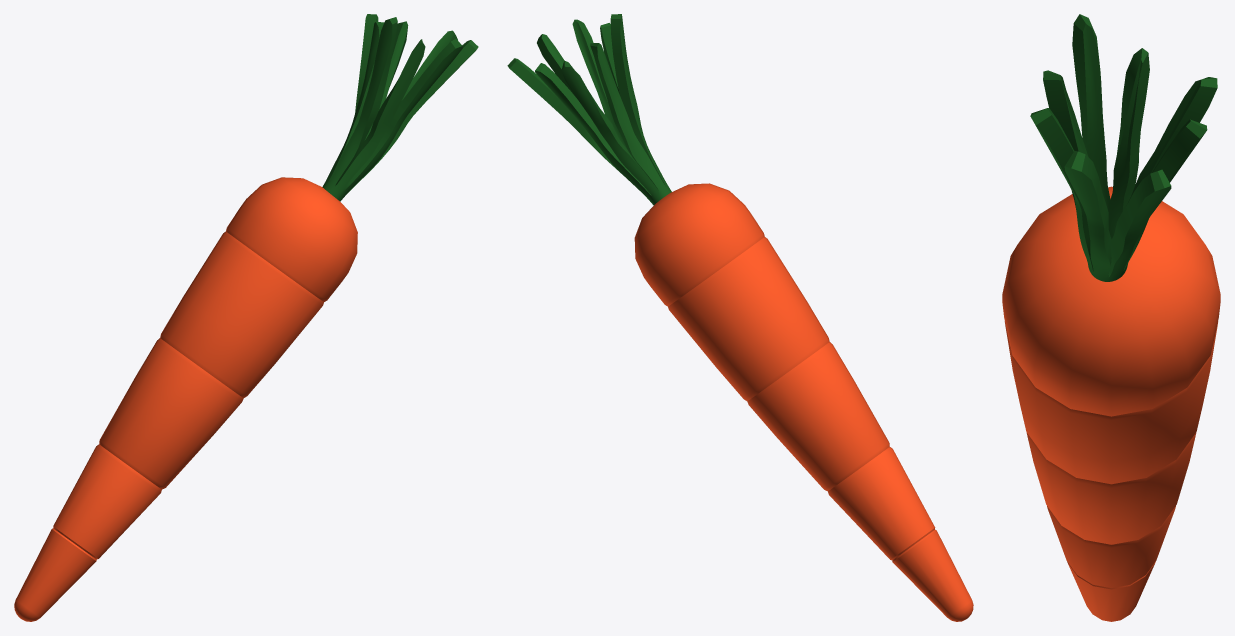
Rendered from carrot.glb.
The picture shows the model from 3 angles, left to right: view 1: azimuth 30°, elevation 25°; view 2: azimuth 150°, elevation 25°; view 3: azimuth 270°, elevation 25°; orthographic projection. The views are drawn at different scales.
Parts seen in each view (by area): view 1: Circle.2197; view 2: Circle.2197; view 3: Circle.2197.
Boxes of the visible parts, x1,y1,x2,y2 form: Circle.2197: (14, 14, 478, 621); Circle.2197: (507, 14, 973, 621); Circle.2197: (1002, 14, 1220, 621).
Size of the model in its own units: 2.05 by 2.26 by 0.4965.
Materials: 1 (1 with a texture image).
